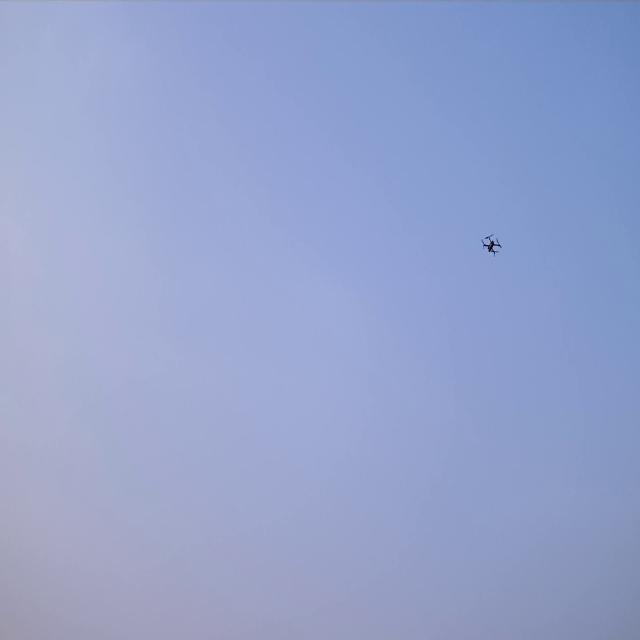UAV: (484, 236, 501, 256)
